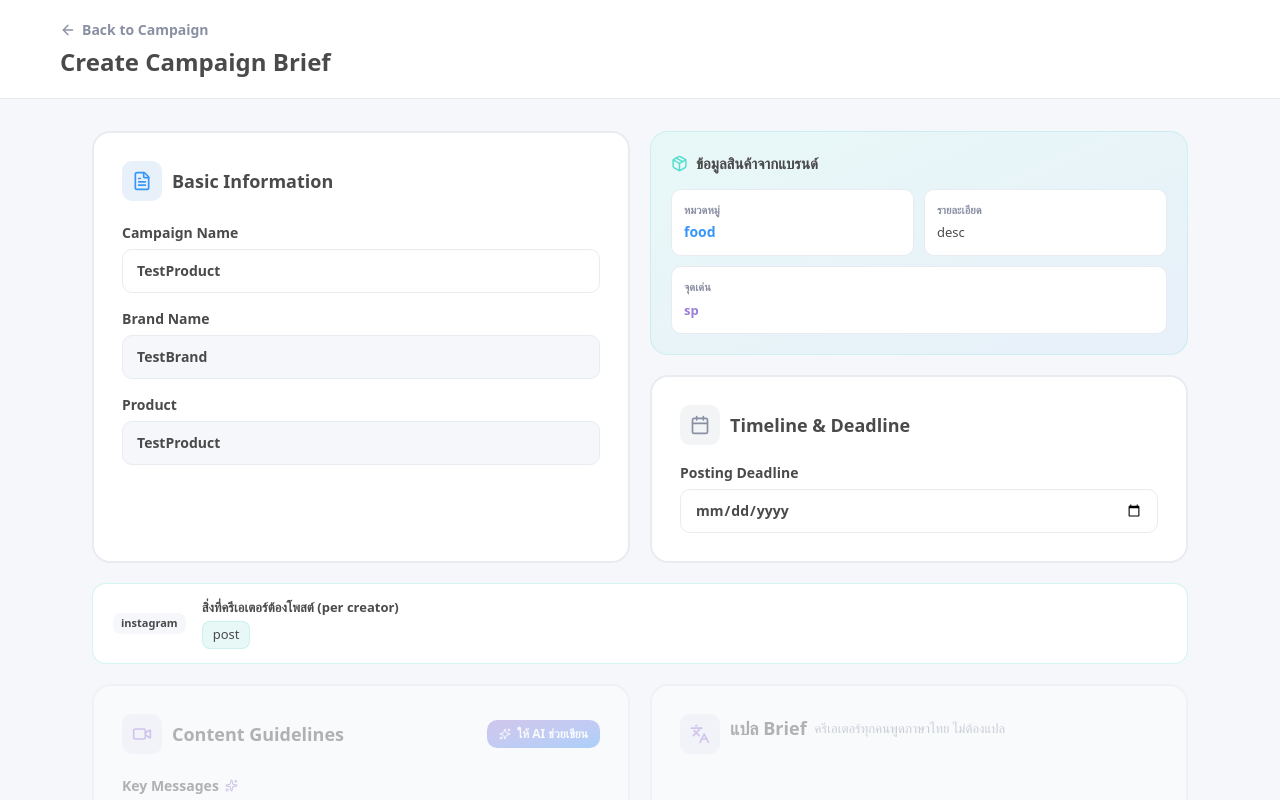
Test: CreateBriefPage — AI prompt dialog › updates character counter as user types in textarea
Click the button "ให้ AI ช่วยเขียน" at (544, 734), box [487,720,600,748]
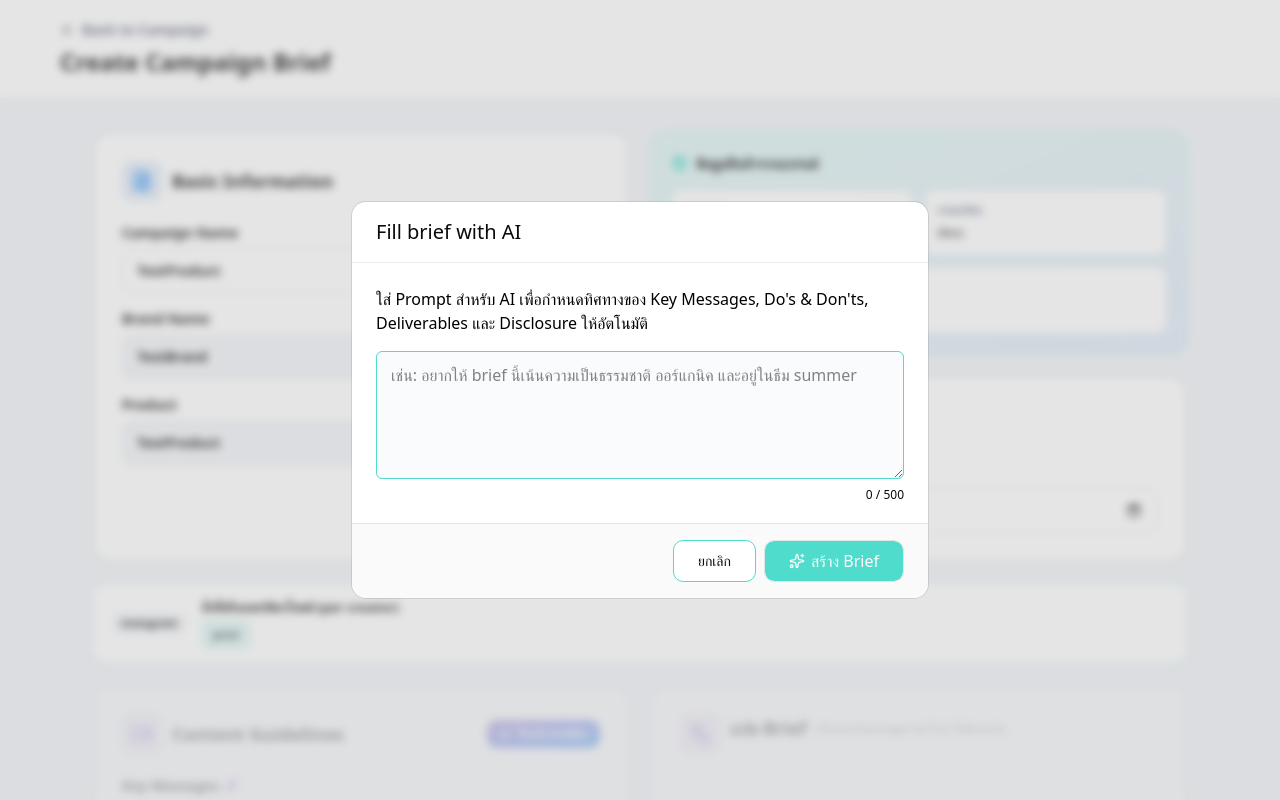
Result: the text "Fill brief with AI" is shown at [376,218,521,245]
Type "hello" into the text box at (640, 415), box [376,351,904,479]
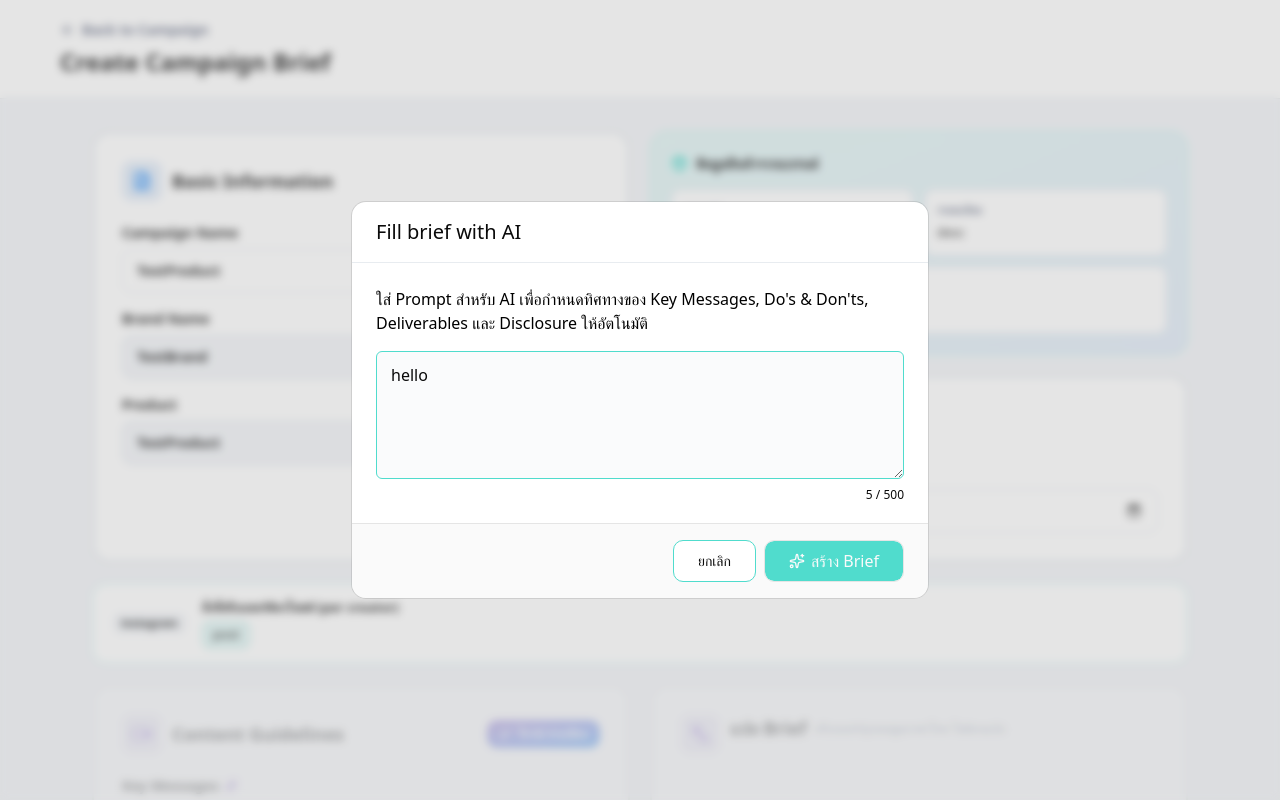
Result: the text "5 / 500" is shown at [866,487,904,503]
